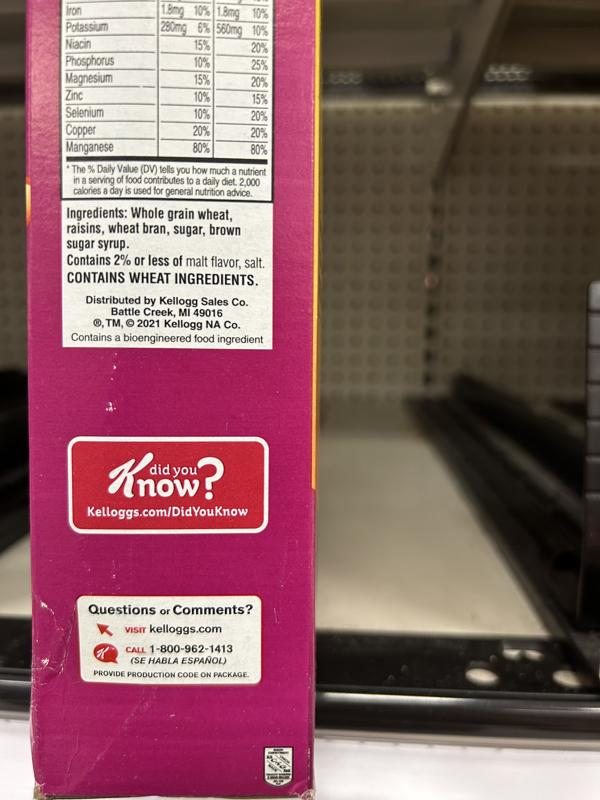ingredients: (64, 203, 249, 254)
